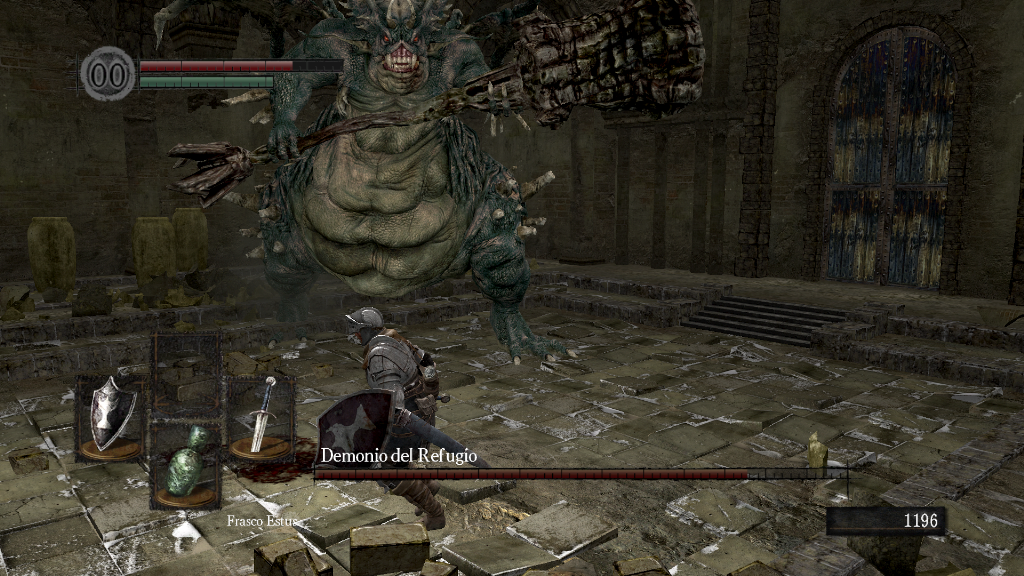asylumDemon: (163, 5, 715, 366)
bossHP: (314, 469, 847, 479)
health: (138, 58, 343, 71)
humanity: (80, 45, 136, 102)
player: (313, 304, 450, 532)
souls: (825, 506, 945, 536)
stamina: (138, 74, 274, 88)
